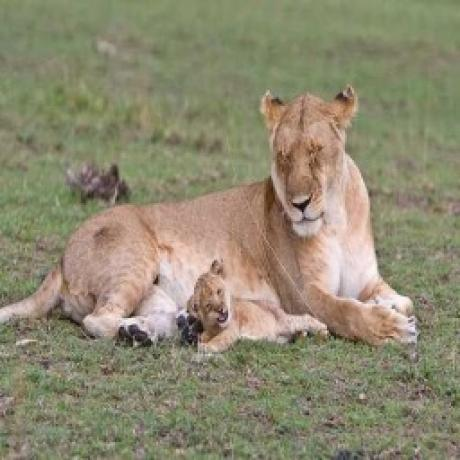Lion: (24, 86, 419, 348), (189, 259, 334, 352)
